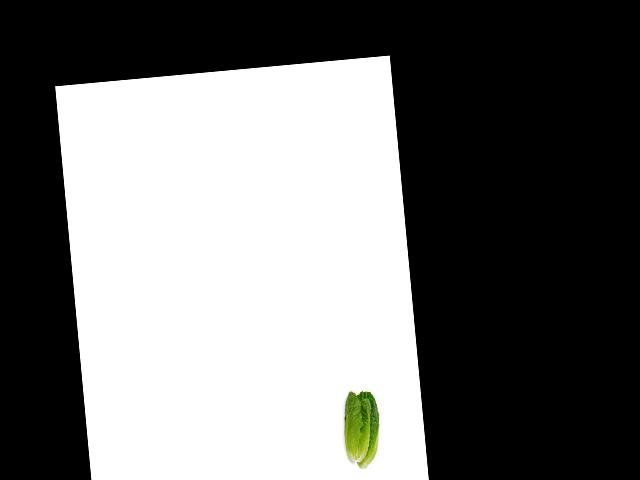lettuce: (335, 388, 383, 469)
